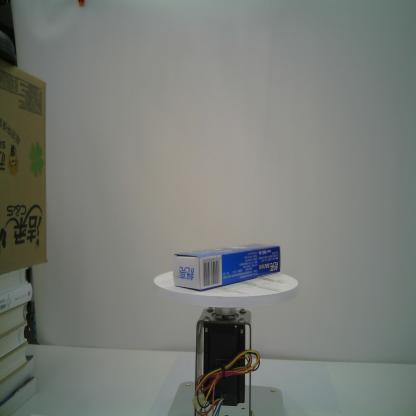Personal Hygiene: (172, 238, 282, 291)
